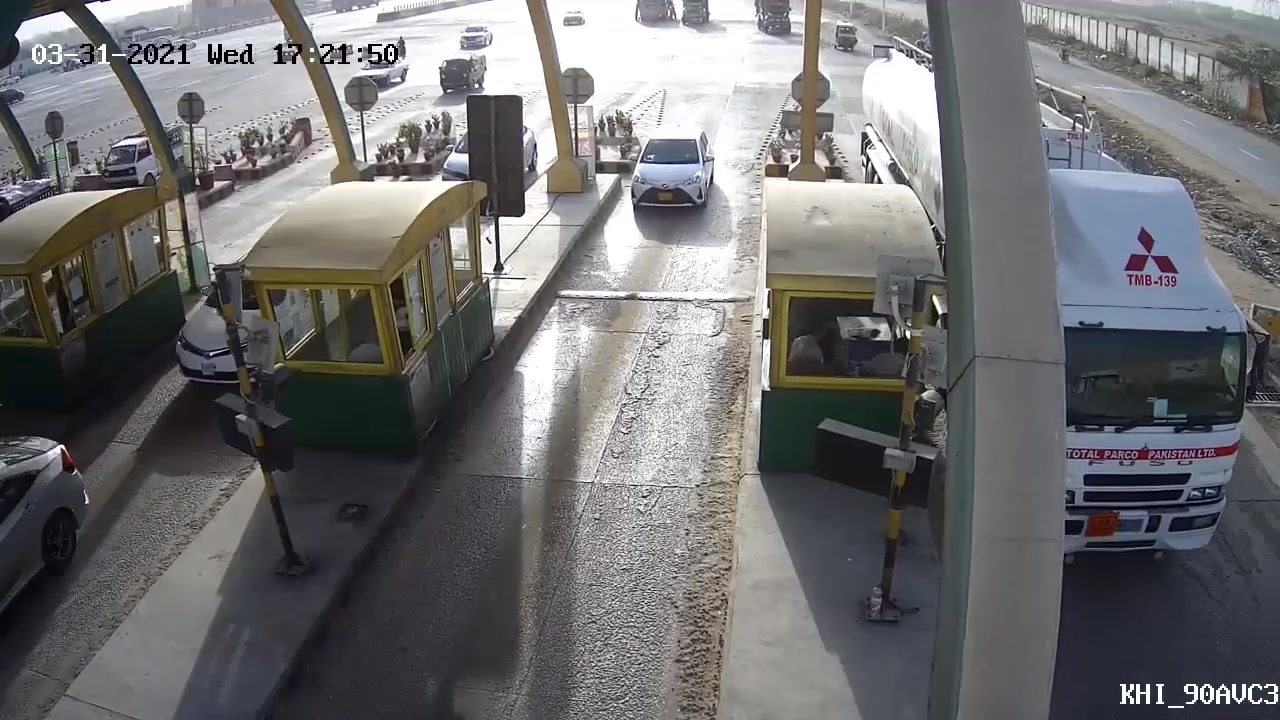F1: (612, 121, 730, 237)
